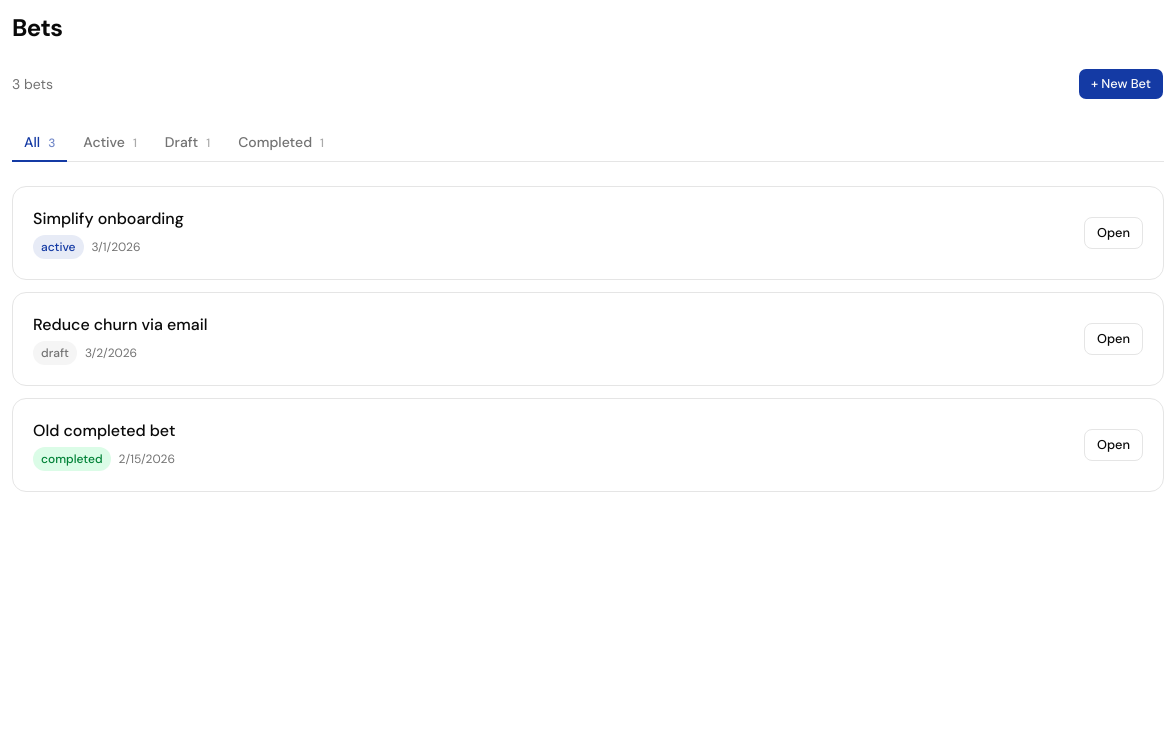
BetsPage › pre-fills message textarea when 'Use as starting point' is clicked
Click the button "+ New Bet".
click(1121, 84)  # box [1078, 68, 1164, 100]
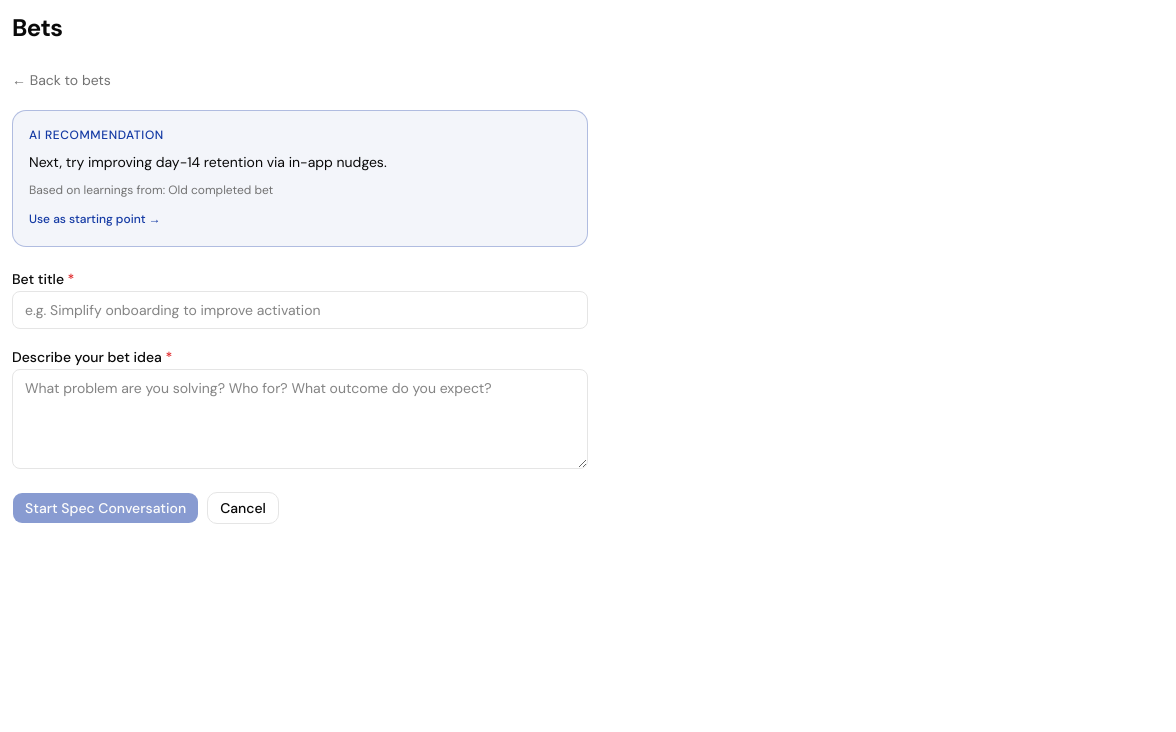
Check: the button "Use as starting point →" is shown
Click the button "Use as starting point →".
click(95, 219)  # box [29, 211, 161, 227]
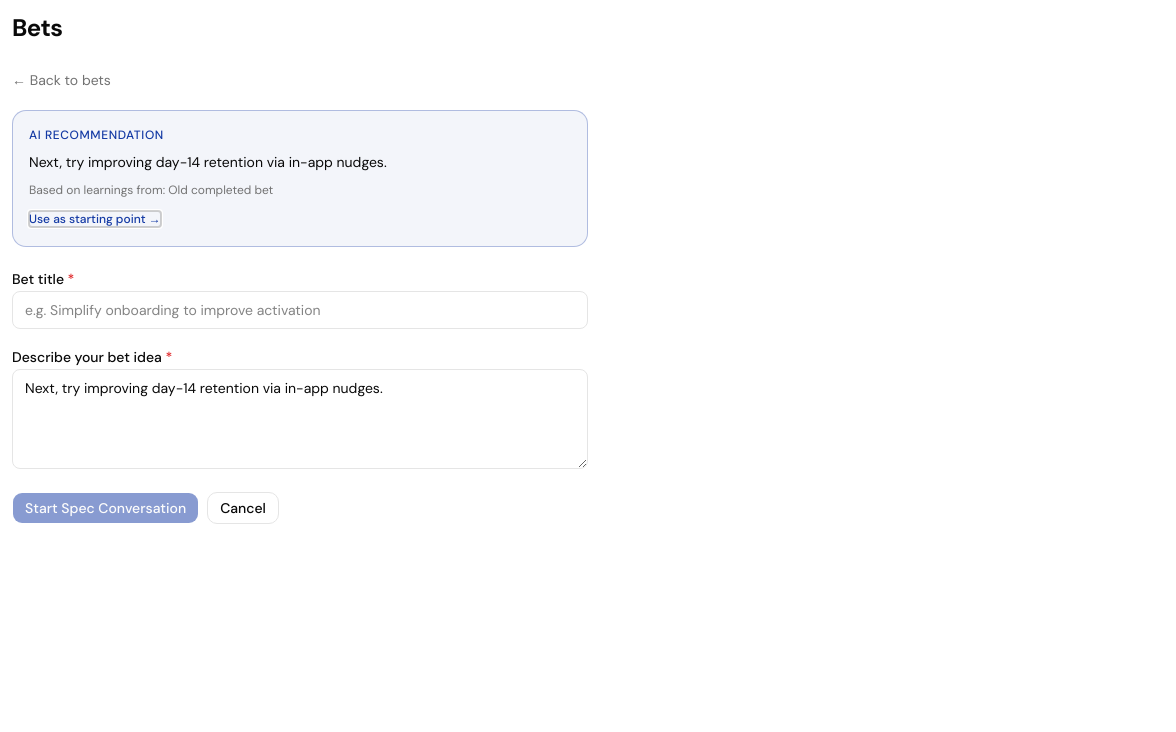
Check: the text box with placeholder "What problem" holds "Next, try improving day-14 retention via in-app nudges.", box [12, 369, 588, 469]
